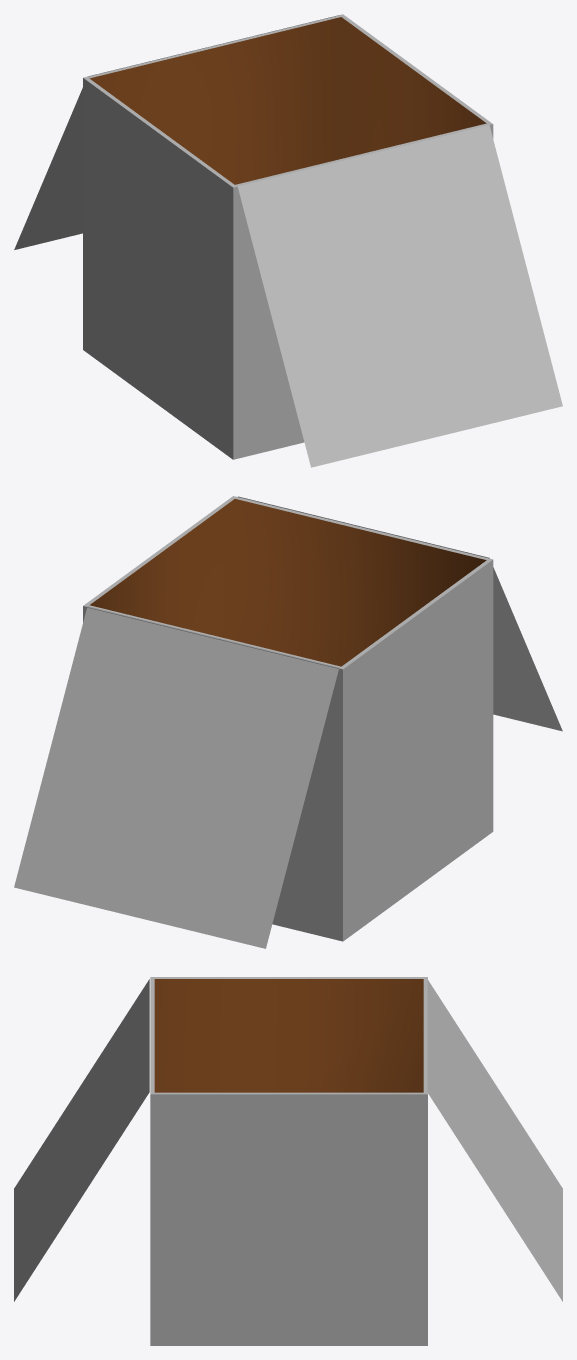
3 renders of one model, top to bottom at view 1: azimuth 30°, elevation 25°; view 2: azimuth 150°, elevation 25°; view 3: azimuth 270°, elevation 25°, orthographic. The views are drawn at different scales.
Visible parts, largest first — view 1: Plane.001, Box; view 2: Plane.001, Box; view 3: Plane.001, Box.
Part boxes in pixels (bbox=[...]): Plane.001: bbox=[14, 14, 562, 467]; Box: bbox=[89, 17, 486, 184]; Plane.001: bbox=[14, 496, 562, 948]; Box: bbox=[90, 499, 486, 666]; Plane.001: bbox=[14, 977, 562, 1345]; Box: bbox=[154, 979, 423, 1092].
Bounding box in the file's own units: 200 × 200 × 396.
